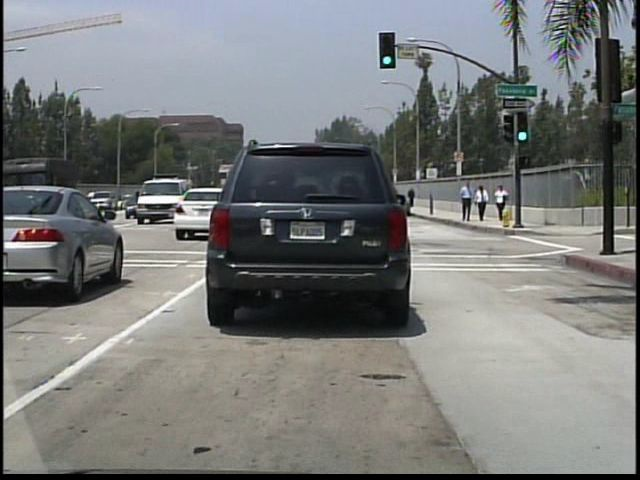person: (459, 179, 475, 223), (475, 185, 490, 222), (494, 184, 507, 212), (409, 186, 417, 208)
